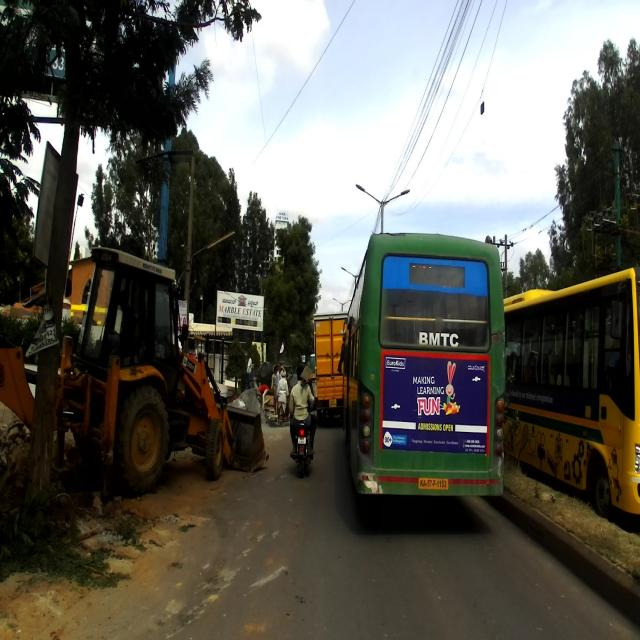bus: (337, 228, 506, 500), (500, 265, 639, 523)
motorcycle: (287, 398, 318, 478)
